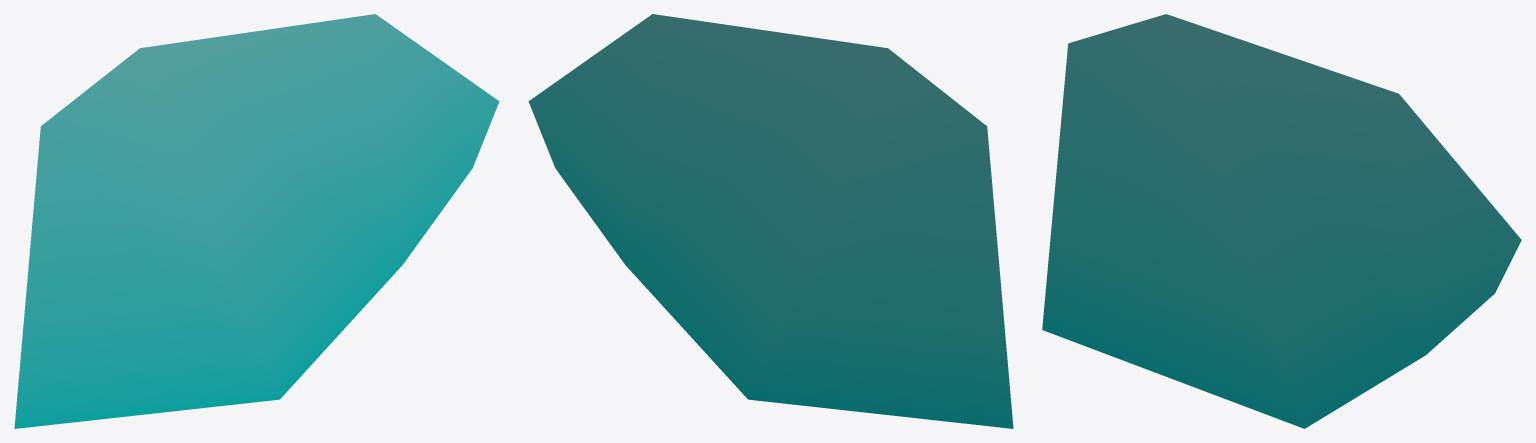
Rendered from Ribbon_Grass_tbdpec3r_High_tbdpec3r_VarA_LOD2.glb.
3 views of the same model, side by side, from view 1: azimuth 30°, elevation 25°; view 2: azimuth 150°, elevation 25°; view 3: azimuth 330°, elevation 25° (orthographic).
Visible parts, largest first — view 1: _d4a2_VarA_LOD3; view 2: _d4a2_VarA_LOD3; view 3: _d4a2_VarA_LOD3.
Part boxes in pixels (bbox=[...]): _d4a2_VarA_LOD3: bbox=[14, 14, 499, 428]; _d4a2_VarA_LOD3: bbox=[528, 14, 1013, 428]; _d4a2_VarA_LOD3: bbox=[1042, 14, 1521, 428].
Bounding box in the file's own units: 0.7051 × 0.5355 × 7.2e-08.
